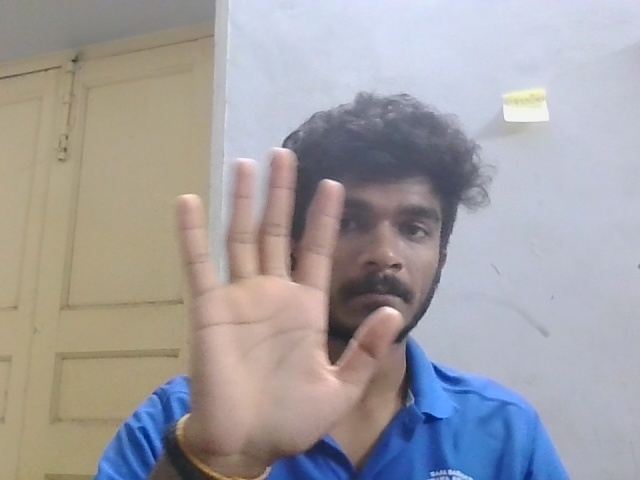Hello: (157, 136, 412, 470)
